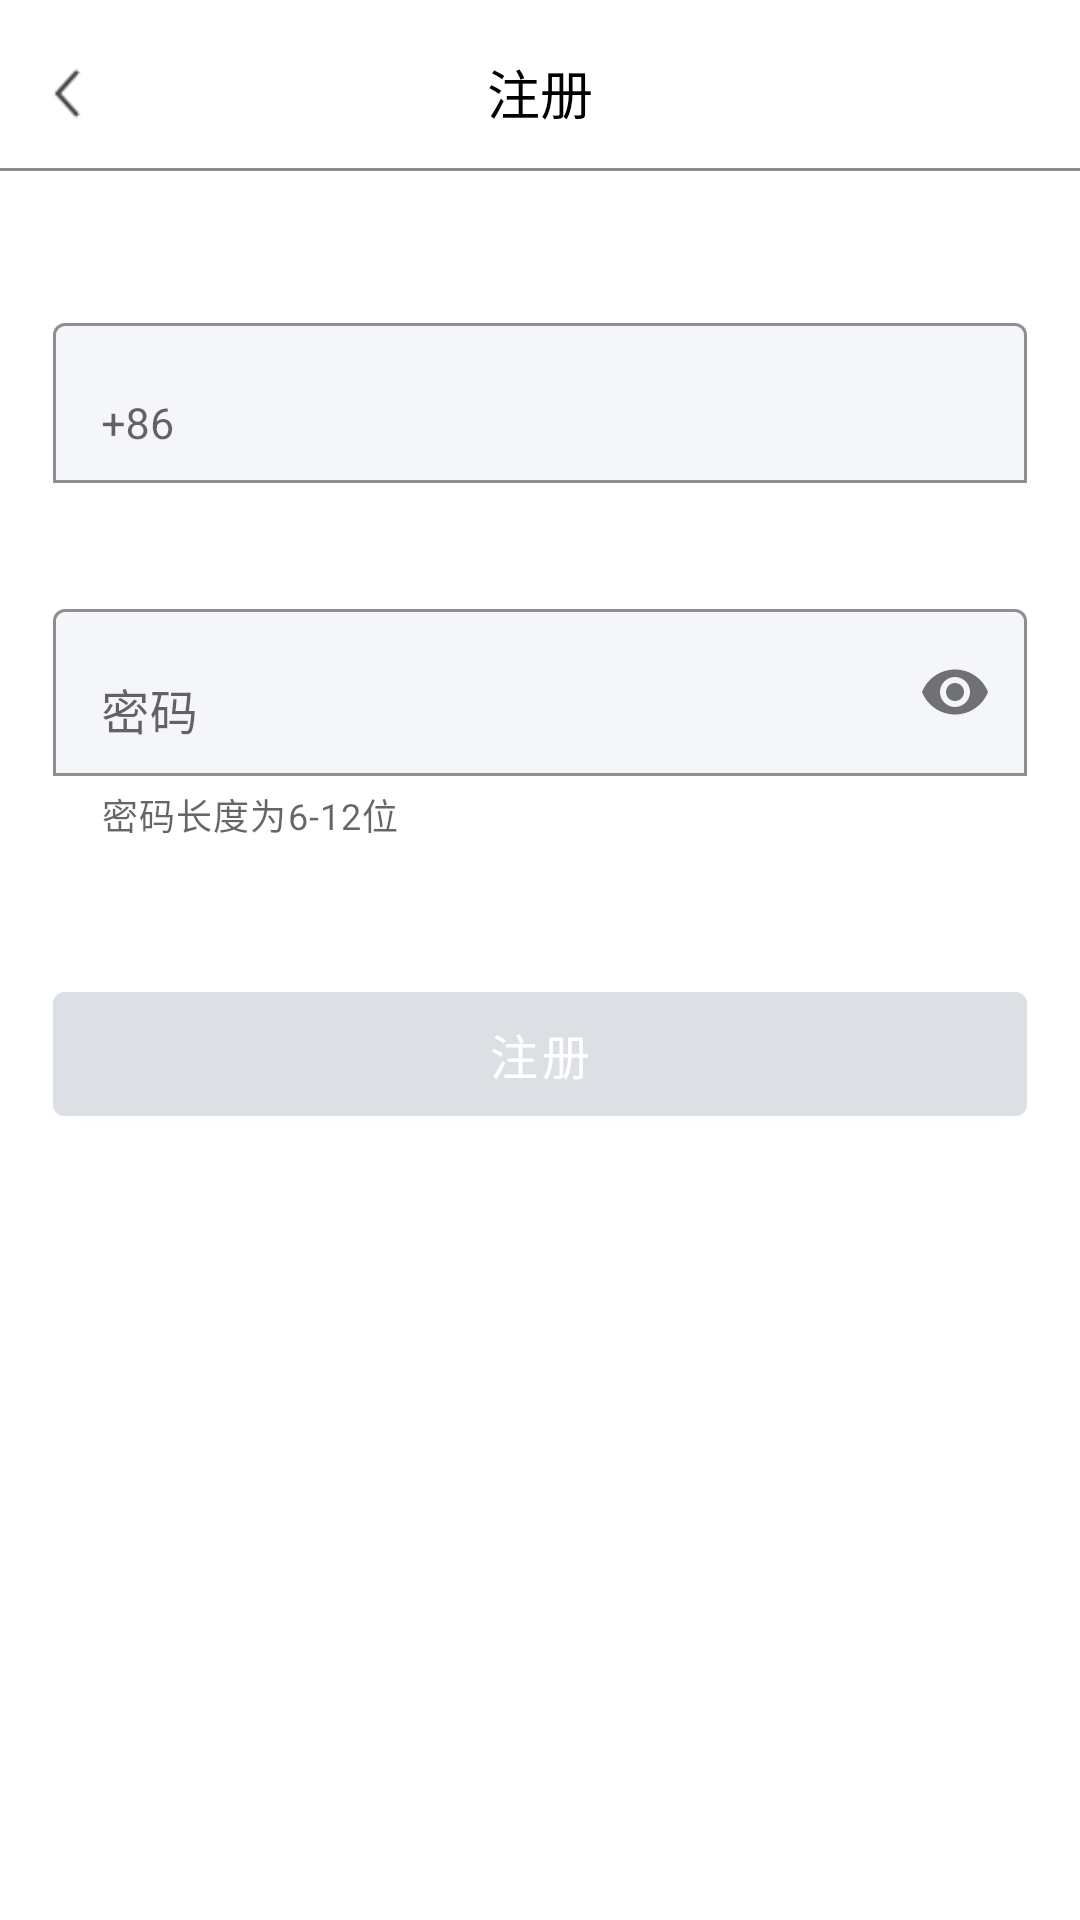

Point at icon controls on the screen. Image size 1080px x 1920px, points as (x,y).
返回: (67,93)
